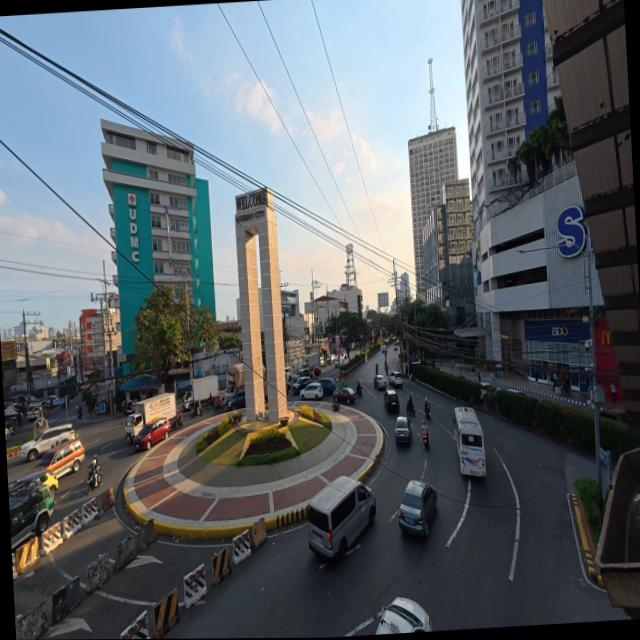bus: (453, 408, 486, 476)
car: (19, 423, 75, 461), (398, 481, 437, 535), (377, 597, 432, 633), (36, 440, 85, 479), (9, 470, 58, 497), (134, 419, 171, 450), (226, 388, 247, 411), (395, 416, 412, 444), (301, 382, 323, 400), (600, 408, 626, 422), (292, 376, 311, 395), (333, 388, 356, 403), (384, 390, 399, 412), (480, 381, 497, 399), (318, 378, 335, 395), (389, 371, 403, 387), (374, 375, 387, 390), (505, 388, 528, 396), (309, 365, 322, 378), (224, 385, 236, 399), (293, 370, 307, 381), (46, 395, 58, 407), (300, 362, 310, 376), (285, 367, 292, 382), (5, 427, 11, 440), (334, 356, 341, 367), (342, 353, 349, 362), (382, 345, 387, 354), (320, 358, 325, 367), (265, 387, 268, 402), (330, 354, 335, 362), (350, 342, 355, 349), (394, 344, 398, 351)
motorcycle: (86, 466, 102, 494), (170, 413, 183, 430), (214, 398, 225, 412), (191, 407, 202, 419), (423, 434, 429, 449), (407, 405, 415, 416), (77, 408, 83, 420), (425, 405, 430, 419), (357, 386, 363, 397), (376, 364, 378, 374)
trucks: (125, 394, 176, 441), (178, 375, 219, 412), (225, 363, 244, 399)
vans: (308, 476, 375, 557), (9, 484, 54, 549), (27, 404, 42, 421)
